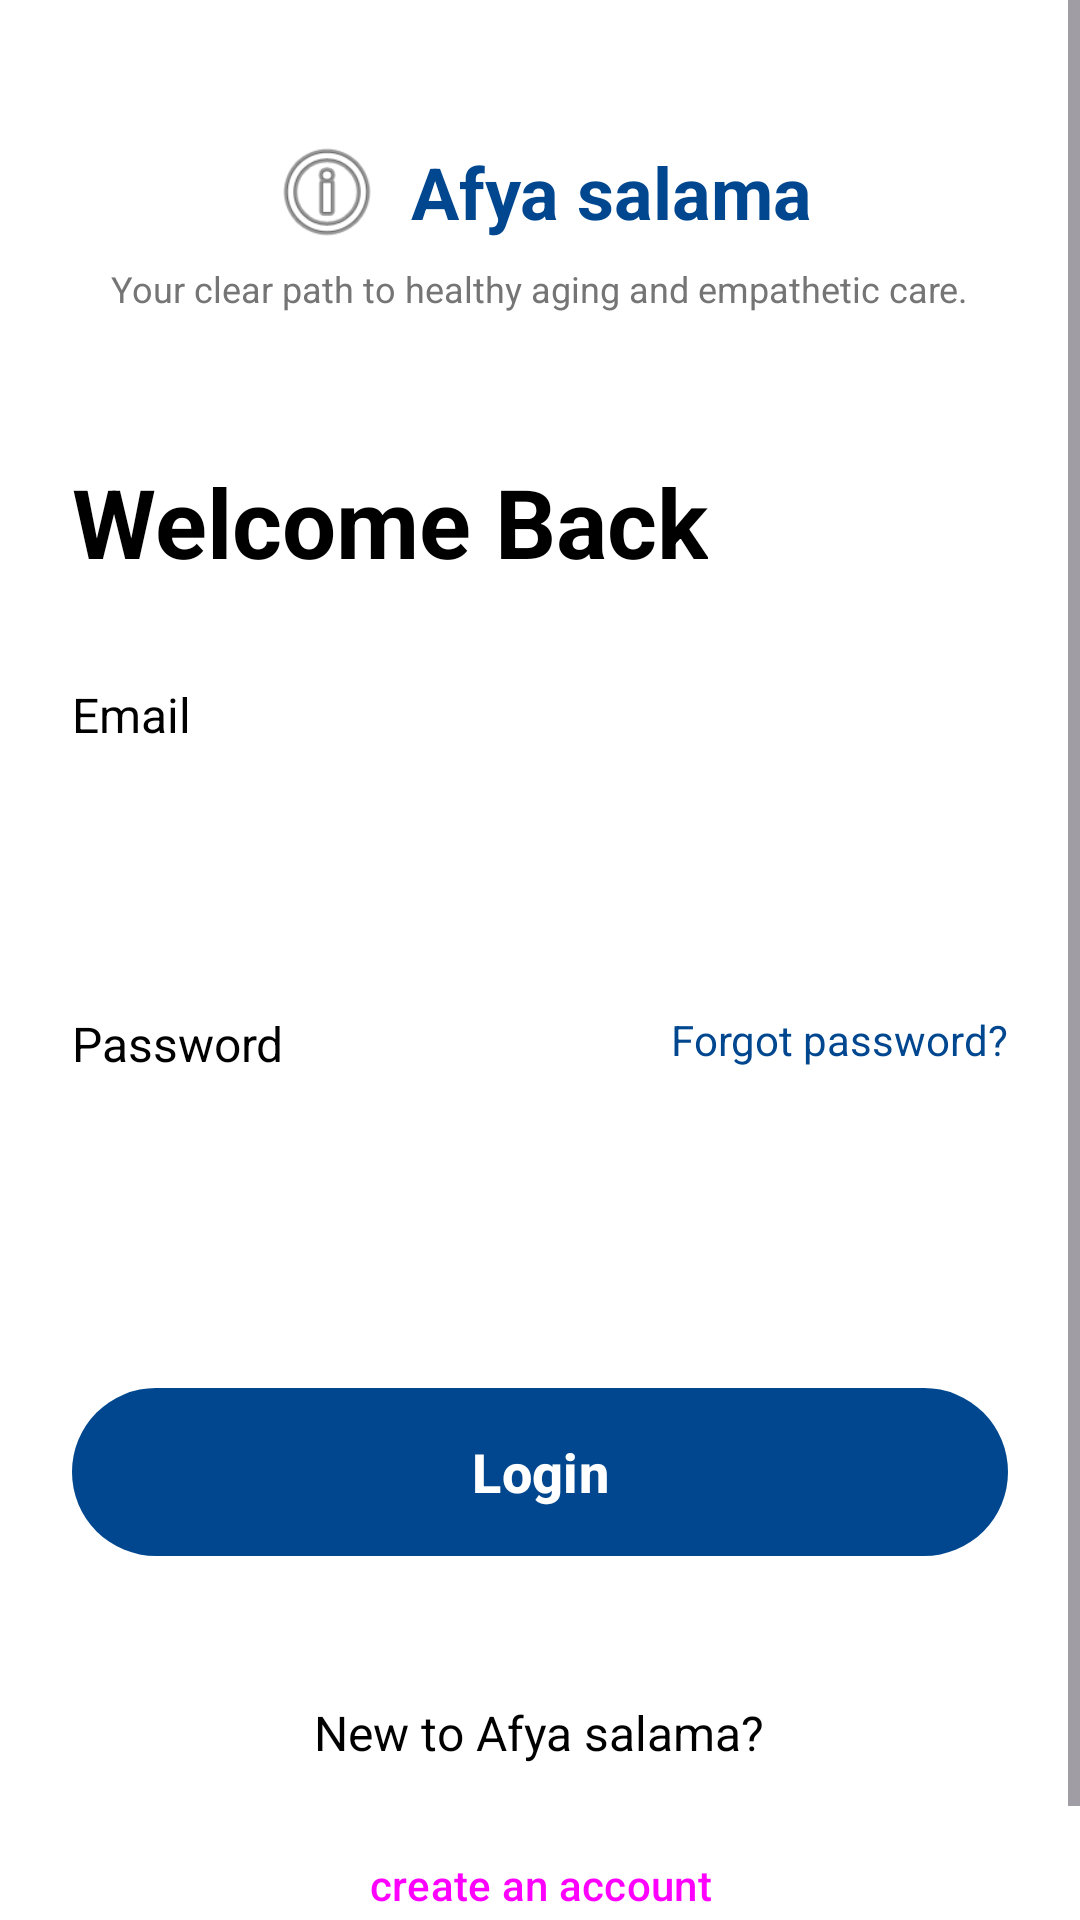

Point at icon controls on the screen. Image size 1080px x 1920px, points as (x=x, y=y).
info details: (x=327, y=192)
